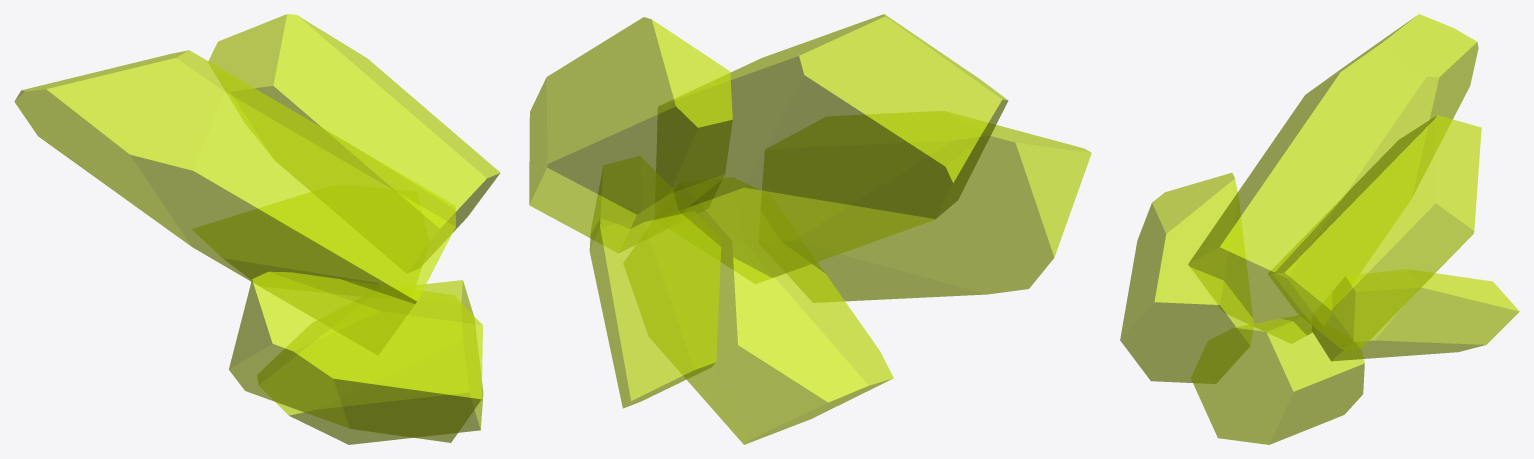
Rendered from crystal_right_bottom.gltf.
The picture shows the model from 3 angles, left to right: view 1: azimuth 30°, elevation 25°; view 2: azimuth 150°, elevation 25°; view 3: azimuth 270°, elevation 25°; orthographic projection. The views are drawn at different scales.
Visible parts, largest first — view 1: Cylinder.005, Cylinder.014, Cylinder.015, Cylinder.016, Cylinder.017; view 2: Cylinder.005, Cylinder.015, Cylinder.016, Cylinder.014, Cylinder.017; view 3: Cylinder.005, Cylinder.014, Cylinder.015, Cylinder.016, Cylinder.017.
Boxes of the visible parts, x1,y1,x2,y2 form: Cylinder.005: (14, 50, 455, 354); Cylinder.014: (208, 14, 500, 272); Cylinder.015: (229, 271, 482, 442); Cylinder.016: (257, 280, 483, 444); Cylinder.017: (192, 192, 421, 286); Cylinder.005: (656, 14, 1008, 283); Cylinder.015: (761, 111, 1091, 302); Cylinder.016: (623, 177, 893, 444); Cylinder.014: (529, 17, 732, 252); Cylinder.017: (589, 156, 721, 408); Cylinder.005: (1188, 14, 1478, 343); Cylinder.014: (1268, 115, 1481, 350); Cylinder.015: (1120, 172, 1253, 383); Cylinder.016: (1191, 315, 1364, 444); Cylinder.017: (1312, 269, 1519, 361).
Bounding box in the file's own units: 1.98 × 1.73 × 1.95.
